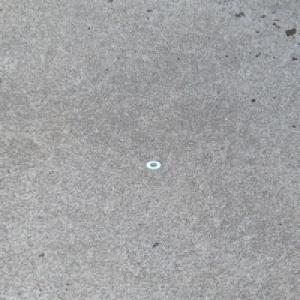Washer: (145, 160, 162, 169)
